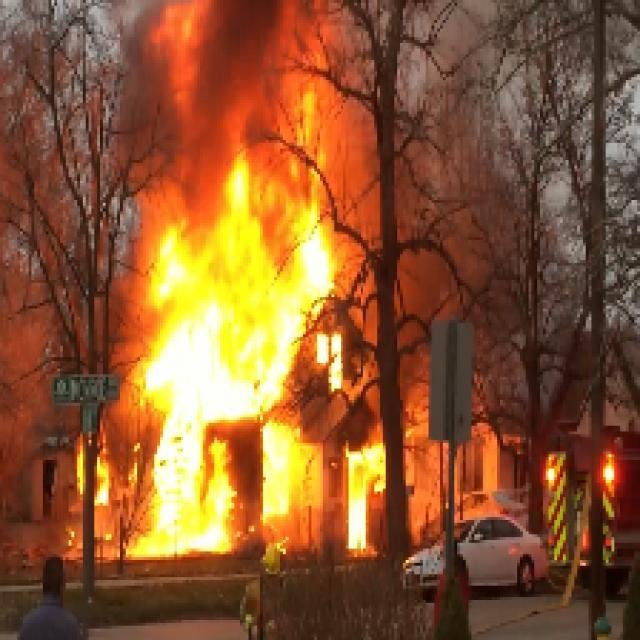Fire: (152, 198, 347, 560)
Smoke: (160, 2, 350, 158)
